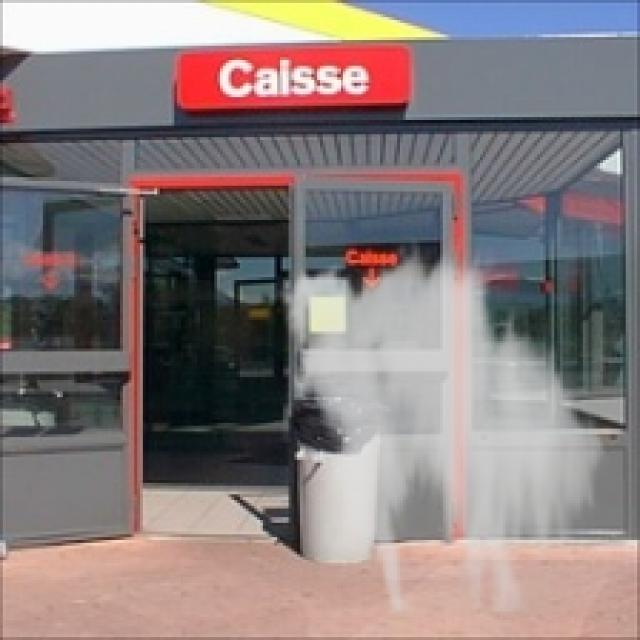smoke: (269, 237, 614, 614)
